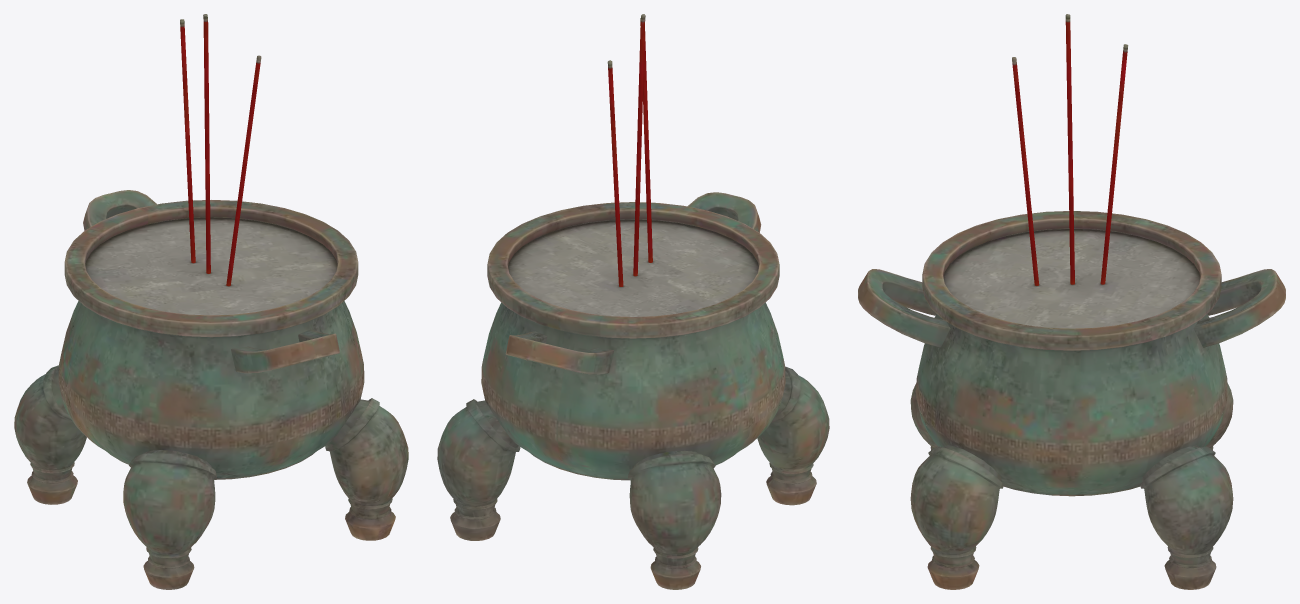
The picture shows the model from 3 angles, left to right: view 1: azimuth 30°, elevation 25°; view 2: azimuth 150°, elevation 25°; view 3: azimuth 270°, elevation 25°; orthographic projection. The views are drawn at different scales.
Visible parts, largest first — view 1: guo_low, jiao_low, hui_low, bashou_low, xiang_low; view 2: guo_low, jiao_low, hui_low, bashou_low, xiang_low; view 3: guo_low, jiao_low, hui_low, bashou_low, xiang_low.
Boxes of the visible parts, box(x1,y1,x2,y2) form: guo_low: box(58, 200, 364, 479); jiao_low: box(14, 365, 408, 589); hui_low: box(85, 217, 337, 315); bashou_low: box(83, 190, 339, 373); xiang_low: box(180, 14, 261, 286); guo_low: box(481, 202, 785, 480); jiao_low: box(437, 366, 829, 589); hui_low: box(508, 219, 758, 316); bashou_low: box(505, 192, 761, 374); xiang_low: box(607, 14, 652, 286); guo_low: box(916, 211, 1227, 496); jiao_low: box(910, 382, 1233, 589); hui_low: box(943, 229, 1200, 328); bashou_low: box(858, 269, 1285, 347); xiang_low: box(1012, 14, 1128, 285).
Size of the model in its own units: 0.0198 by 0.0348 by 0.0263.
1 material, 1 textured.
